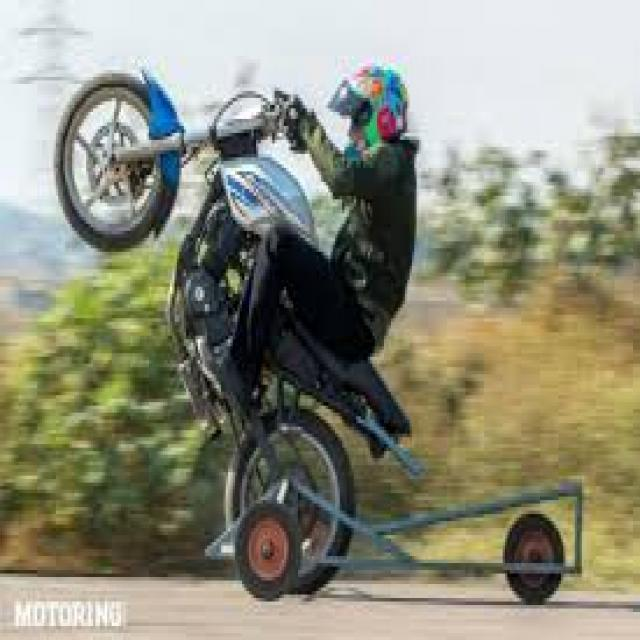Wheeling: (68, 52, 452, 552)
